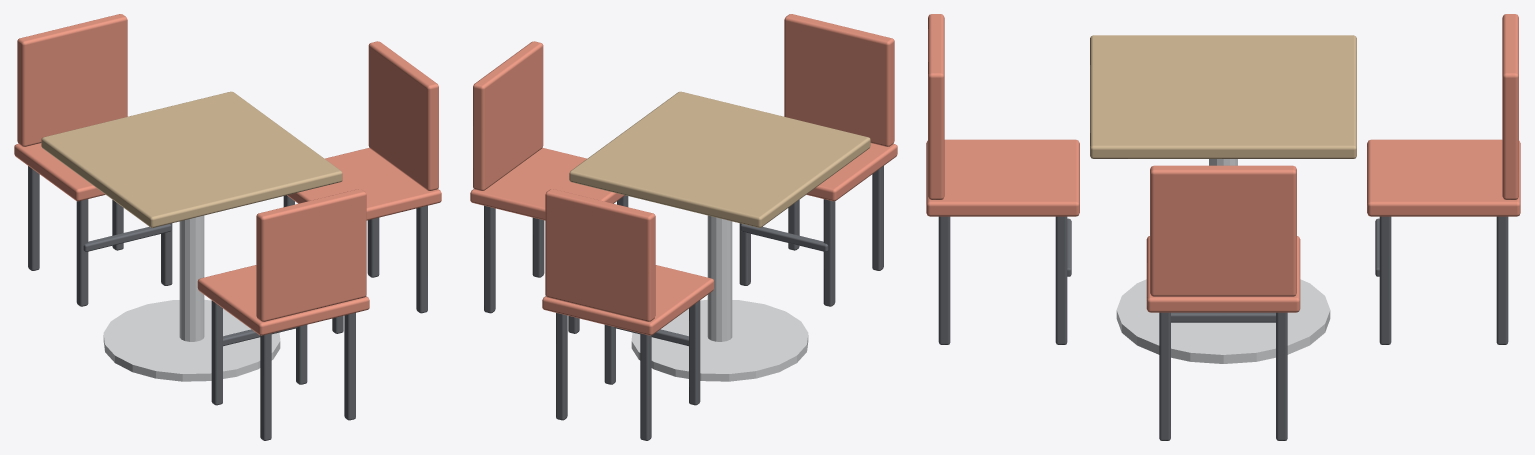
Rendered from public-aquarium-and-marine-centre-cafe-table-and-chair-1f443378__34168.glb.
3 views of the same model, side by side, from view 1: azimuth 30°, elevation 25°; view 2: azimuth 150°, elevation 25°; view 3: azimuth 270°, elevation 25° (orthographic). The views are drawn at different scales.
Visible parts, largest first — view 1: cafe-table-and-chairs-coral; view 2: cafe-table-and-chairs-coral; view 3: cafe-table-and-chairs-coral.
Part boxes in pixels (x1,y1,x2,y2): cafe-table-and-chairs-coral: [14, 14, 441, 440]; cafe-table-and-chairs-coral: [470, 14, 897, 440]; cafe-table-and-chairs-coral: [926, 14, 1520, 440].
Size of the model in its own units: 1.31 by 0.9101 by 1.78.
